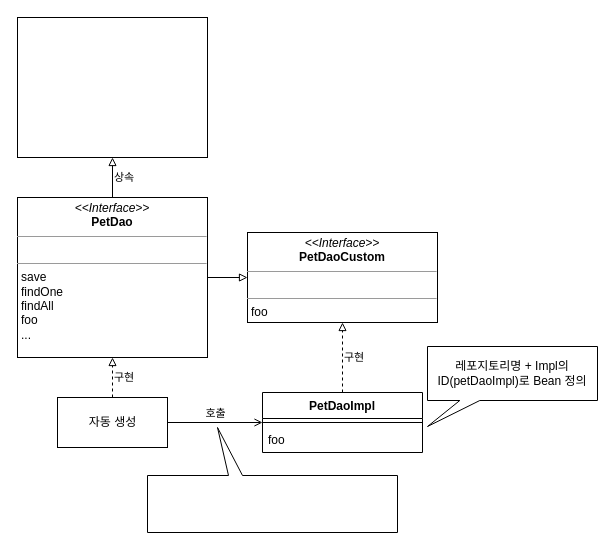
The diagram is 615 pixels wide and 550 high, and some of its shapes have lost their labels. The shapes that lost their labels are listed below. From the top down, each one's centre as x and y in pixels, then its label:
At (112,87): "<<Interface>> JpaRepository save findOne findAll ...".
At (272,479): "레포지토리명+Impl로 된 ID(petDaoBean)의 Bean을 찾는다".
